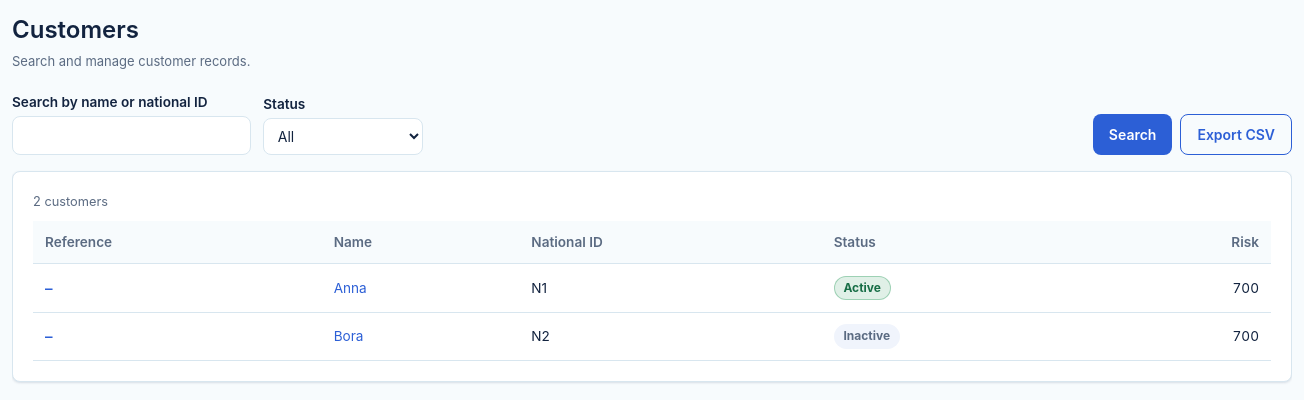
Test case: Step 12 — Customer Directory › the status filter re-queries with ?status=
Expected: the row with test id "customer-row-2" is shown, [33,312,1271,360]
Select "Active" in the dropdown labelled "Status" at coordinates (343, 136), box [263,118,423,155]
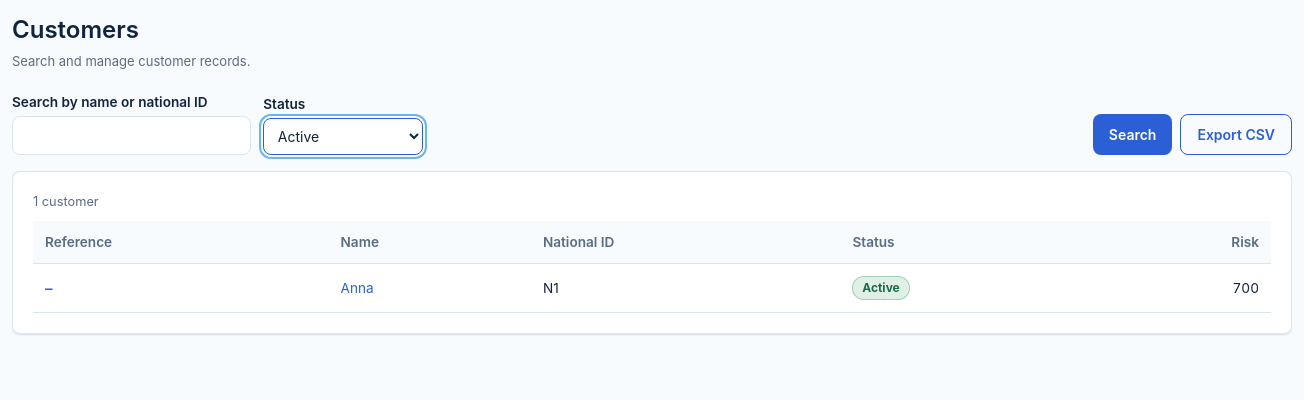
Result: the row with test id "customer-row-2" is gone
